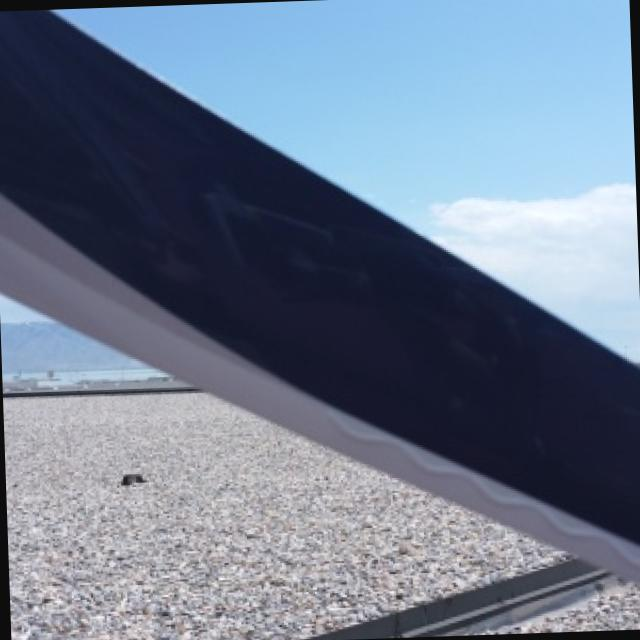healthy: (0, 9, 640, 580)
